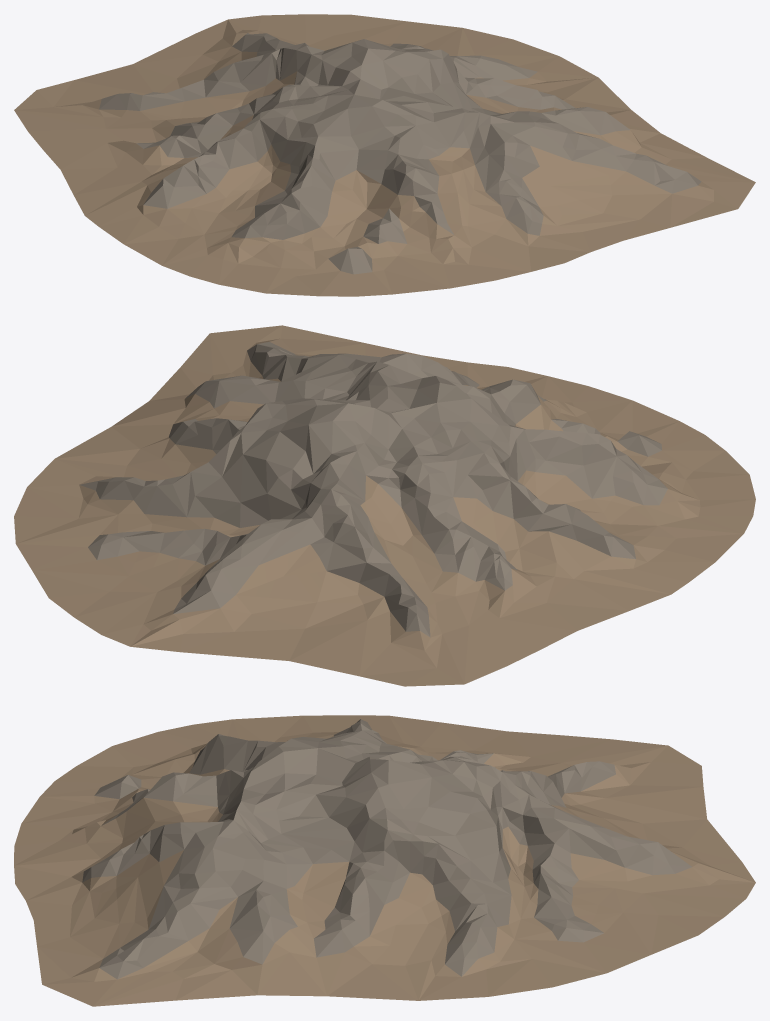
Rendered from SM_Env_Mountain_07.glb.
The picture shows the model from 3 angles, top to bottom: view 1: azimuth 30°, elevation 25°; view 2: azimuth 150°, elevation 25°; view 3: azimuth 270°, elevation 25°; orthographic projection. The views are drawn at different scales.
Parts seen in each view (by area): view 1: SM_Env_Mountain_07; view 2: SM_Env_Mountain_07; view 3: SM_Env_Mountain_07.
Boxes of the visible parts, x1=… form: SM_Env_Mountain_07: x1=14, y1=14, x2=755, y2=296; SM_Env_Mountain_07: x1=14, y1=325, x2=755, y2=686; SM_Env_Mountain_07: x1=14, y1=715, x2=755, y2=1006.
Size of the model in its own units: 47.57 by 8.3 by 51.18.
1 material, 1 textured.
